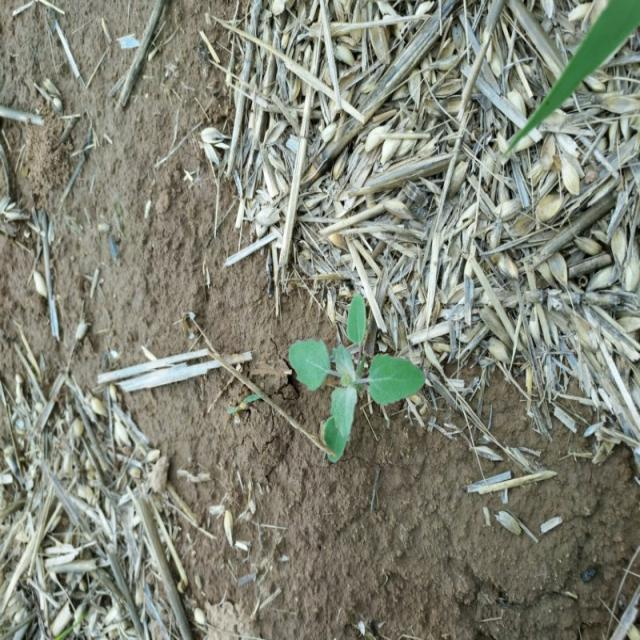goosefoots: (272, 280, 414, 460)
